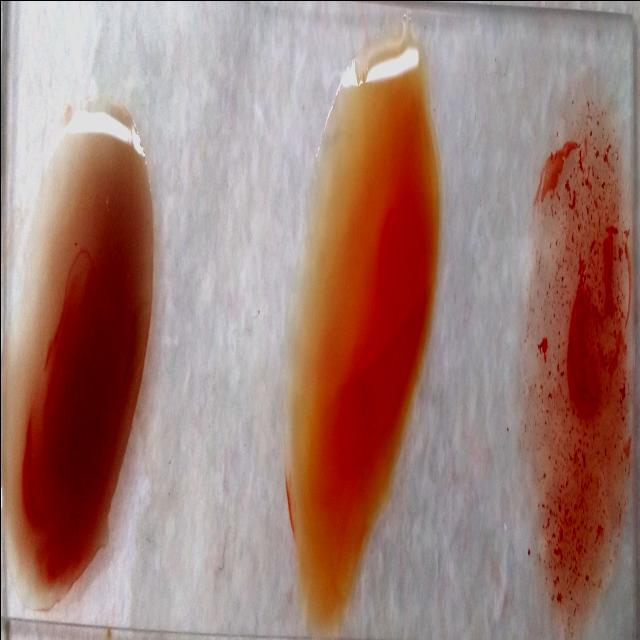D: (526, 84, 633, 610)
